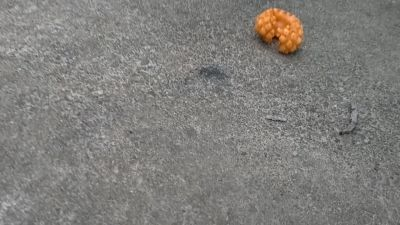eggs: (252, 8, 305, 56)
